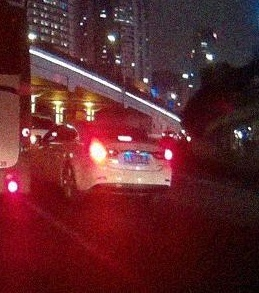L_light: (89, 146, 106, 159)
R_light: (164, 149, 171, 160)
T_light: (118, 136, 132, 141)
night-left: (77, 124, 172, 207)
